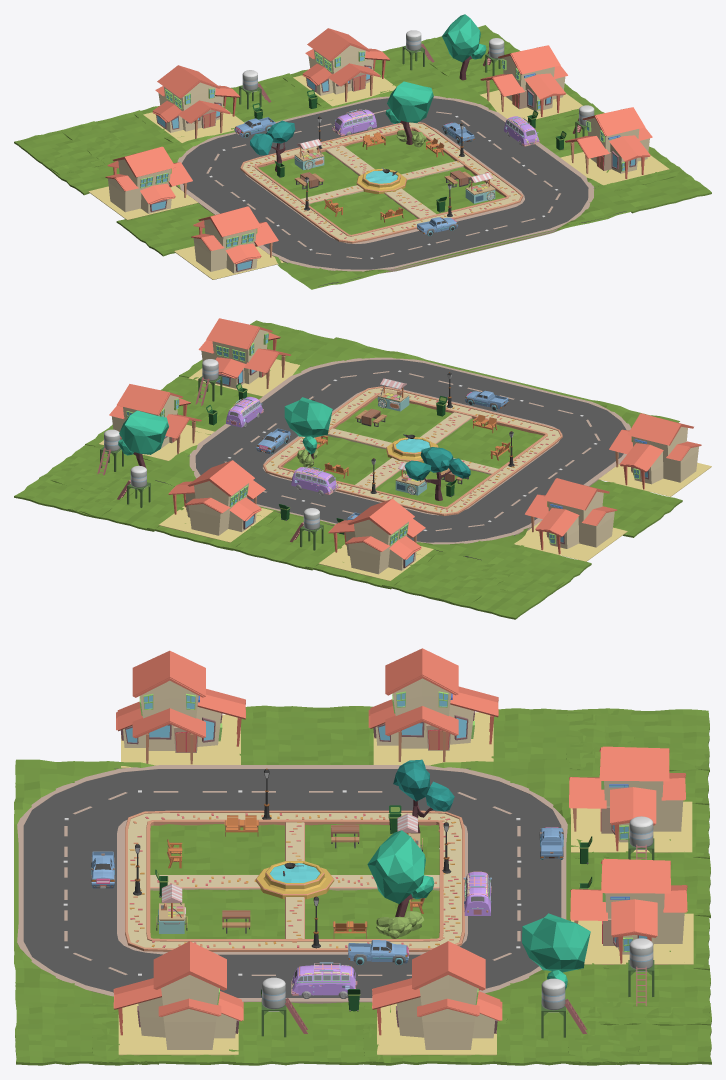
Rendered from bilun - playable area.fbx.
The picture shows the model from 3 angles, top to bottom: view 1: azimuth 30°, elevation 25°; view 2: azimuth 150°, elevation 25°; view 3: azimuth 270°, elevation 25°; orthographic projection. The views are drawn at different scales.
Visible parts, largest first — view 1: black road, Cube.215, Plane.013, white linings road, Plane.009, Plane.007, Plane.012, Plane.023, Plane.005, Plane.020, Plane.008, Cube.216 (+44 smaller); view 2: black road, Cube.215, Plane.013, white linings road, Plane.005, Plane.010, Plane.012, Plane.017, Plane.020, Plane.007, Plane.011, Plane.009 (+41 smaller); view 3: black road, Cube.215, Plane.013, white linings road, Plane.009, Plane.000, Plane.011, Plane.007, Plane.017, Plane.003, Plane.023, Plane.010 (+58 smaller).
Boxes of the visible parts, x1,y1,x2,y2 form: black road: (182,98,626,286); Cube.215: (240,122,523,243); Plane.013: (164,76,636,289); white linings road: (176,95,594,273); Plane.009: (116,203,214,256); Plane.007: (309,191,417,234); Plane.012: (62,110,181,163); Plane.023: (606,157,711,213); Plane.005: (223,73,331,122); Plane.020: (14,121,131,175); Plane.008: (345,130,454,174); Cube.216: (301,145,463,218); black road: (155,359,625,560); Cube.215: (263,386,562,515); Plane.013: (147,337,679,561); white linings road: (189,357,630,544); Plane.005: (222,513,345,570); Plane.010: (461,544,591,600); Plane.012: (382,552,514,604); Plane.017: (14,463,132,518); Plane.020: (429,564,564,619); Plane.007: (436,418,543,468); Plane.011: (68,476,184,531); Plane.009: (590,480,682,537); black road: (23,768,561,997); Cube.215: (125,810,464,951); Plane.013: (14,759,570,1005); white linings road: (17,765,567,1003); Plane.009: (239,705,373,764); Plane.000: (229,1002,384,1065); Plane.011: (567,963,710,1025); Plane.007: (150,824,284,874); Plane.017: (568,1001,711,1065); Plane.003: (497,1001,639,1065); Plane.023: (15,1002,158,1065); Plane.010: (491,708,634,769).
Bounding box in the file's own units: 6614 × 849 × 5470.
